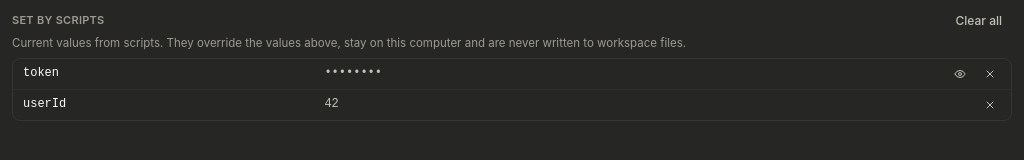
Test: values set by scripts › hides secret values until shown
The width and height of the screenshot is (1024, 160).
Expected: the text "42" is shown, [324, 97, 339, 111]
Expected: the text "tok-s3cret" is not shown
Click the button named "Show token". click: (960, 74)
box: [949, 63, 971, 85]
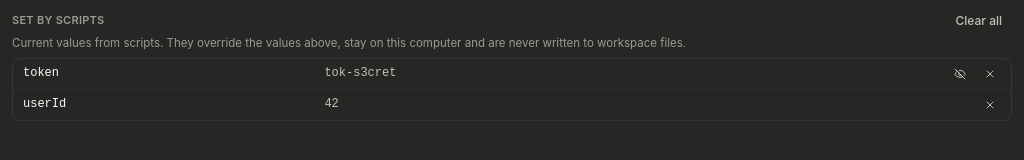
Now the text "tok-s3cret" is shown, box [324, 66, 396, 80]
